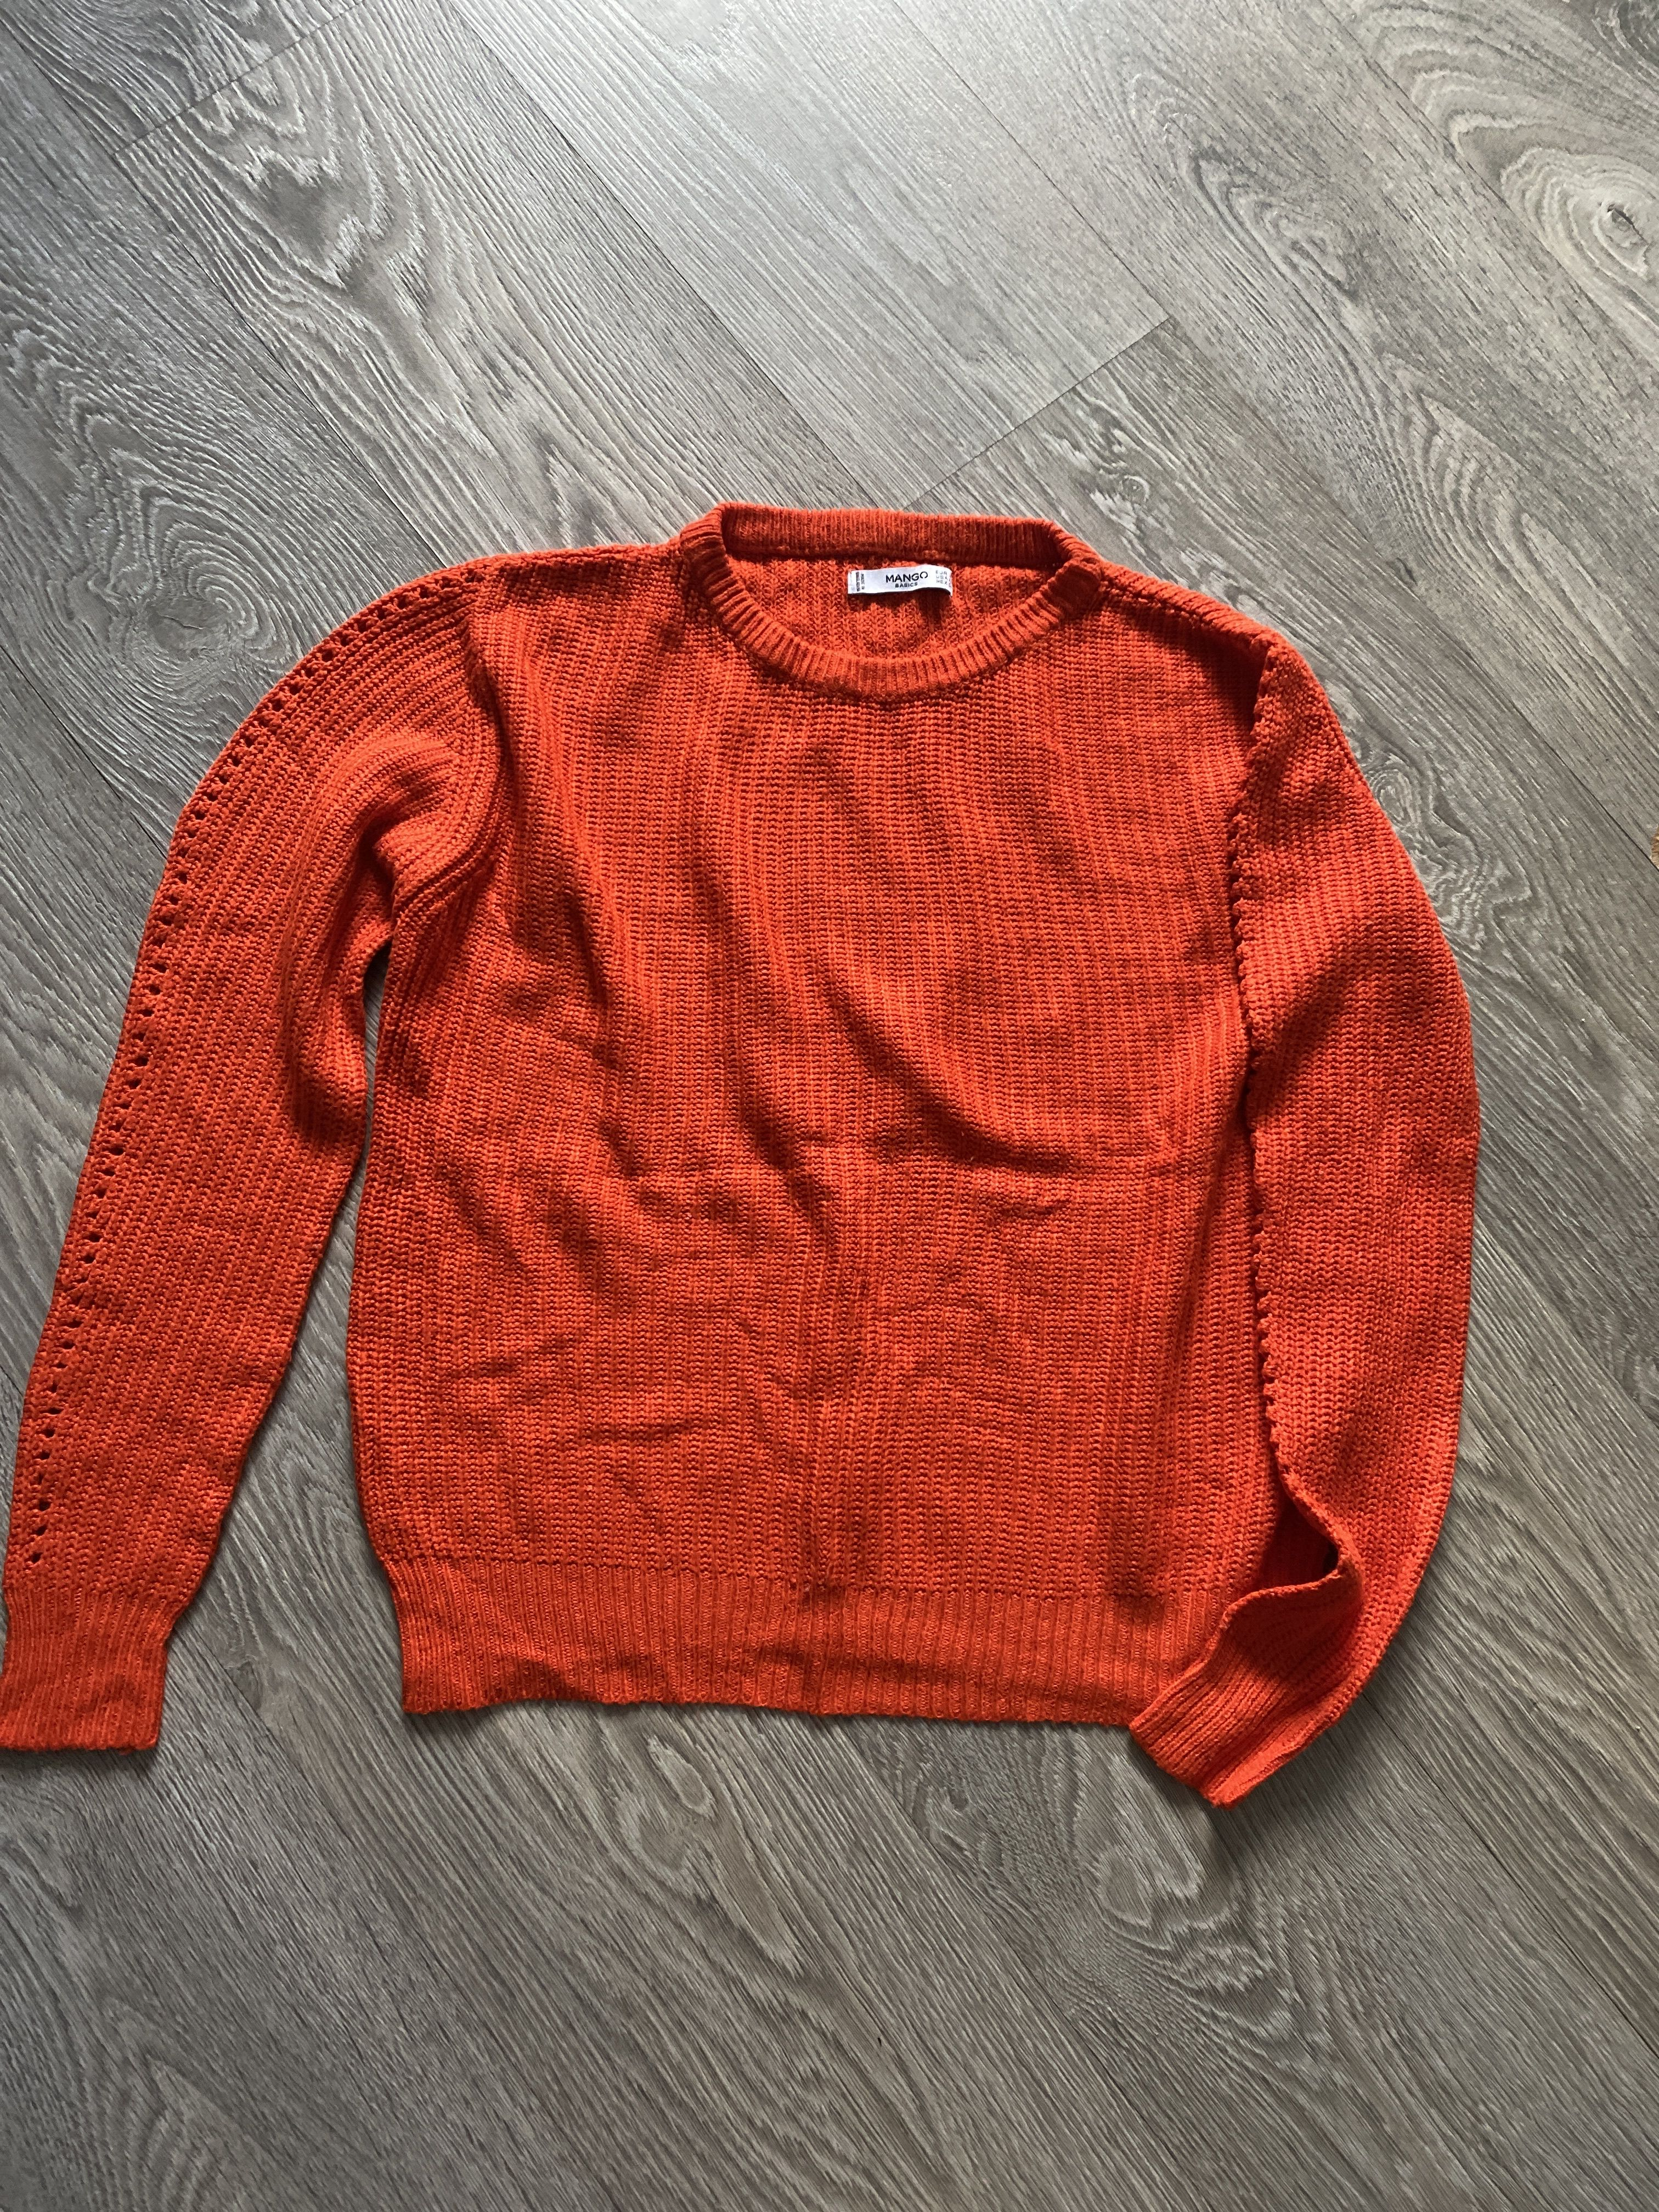clothes: (49, 493, 1439, 1829)
